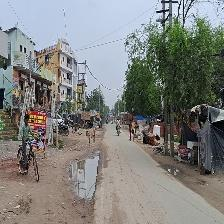Bike: (17, 115, 43, 178), (112, 114, 123, 138)
Road: (92, 125, 219, 223)
waterlog: (66, 154, 97, 201)
